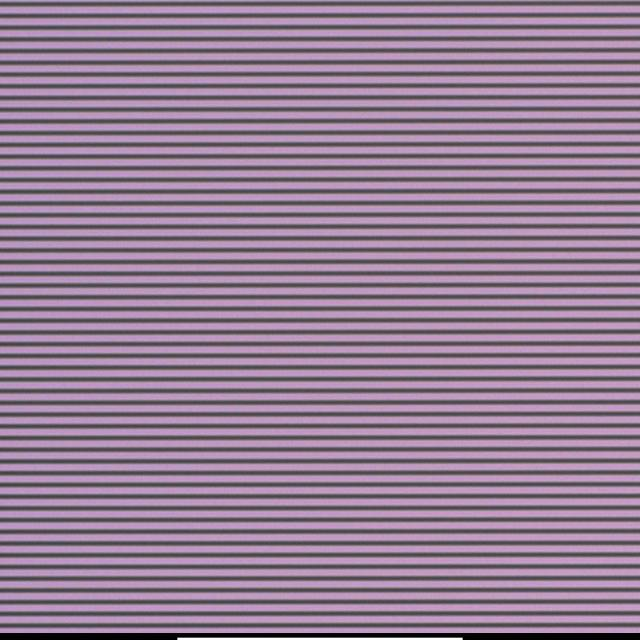nonvisual: (360, 258, 372, 268)
